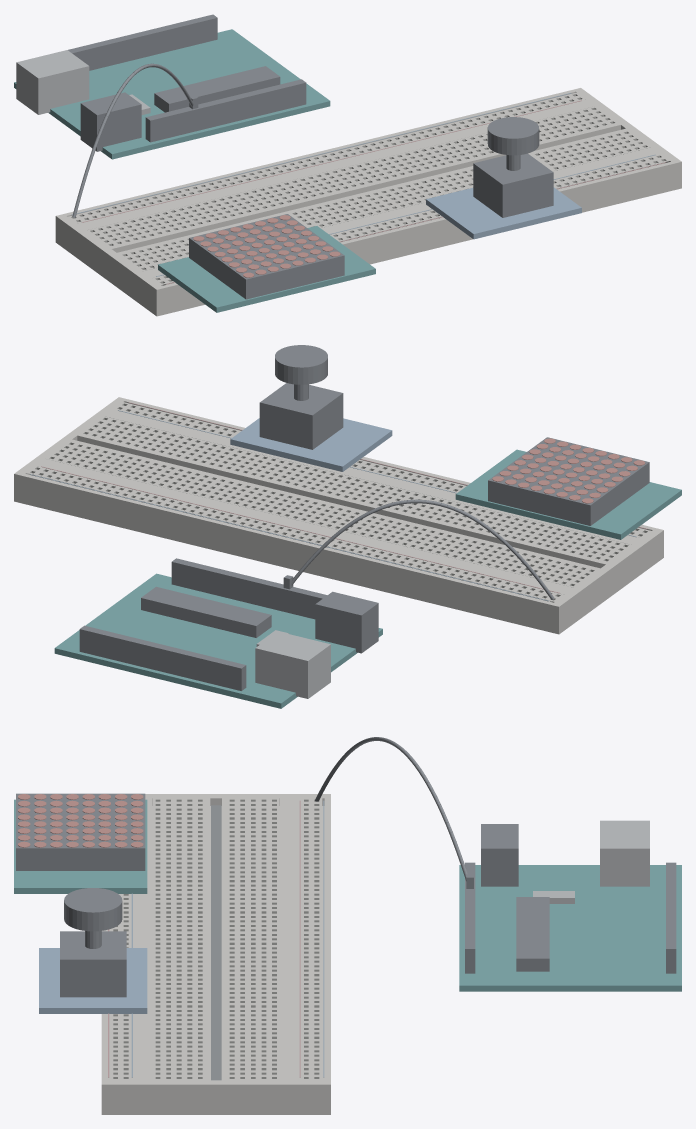
The model's file is step-4.glb.
3 views of the same model, one above another, from view 1: azimuth 30°, elevation 25°; view 2: azimuth 150°, elevation 25°; view 3: azimuth 270°, elevation 25° (orthographic). The views are drawn at different scales.
Visible parts, largest first — view 1: breadboard__mesh, uno__mesh, matrix__mesh, joystick__mesh, ground_supply__mesh; view 2: breadboard__mesh, uno__mesh, matrix__mesh, joystick__mesh, ground_supply__mesh; view 3: breadboard__mesh, uno__mesh, matrix__mesh, joystick__mesh, ground_supply__mesh.
Boxes of the visible parts, left/top/right/bottom form: breadboard__mesh: left=55, top=88, right=681, bottom=316; uno__mesh: left=14, top=14, right=330, bottom=159; matrix__mesh: left=158, top=214, right=375, bottom=312; joystick__mesh: left=426, top=117, right=581, bottom=239; ground_supply__mesh: left=72, top=63, right=198, bottom=217; breadboard__mesh: left=14, top=397, right=663, bottom=634; uno__mesh: left=54, top=558, right=382, bottom=708; matrix__mesh: left=455, top=437, right=681, bottom=539; joystick__mesh: left=230, top=345, right=392, bottom=471; ground_supply__mesh: left=283, top=499, right=554, bottom=599; breadboard__mesh: left=101, top=794, right=330, bottom=1114; uno__mesh: left=459, top=820, right=681, bottom=991; matrix__mesh: left=14, top=793, right=147, bottom=893; joystick__mesh: left=39, top=888, right=147, bottom=1013; ground_supply__mesh: left=315, top=737, right=473, bottom=888.
Size of the model in its own units: 0.165 by 0.0373 by 0.1602.
